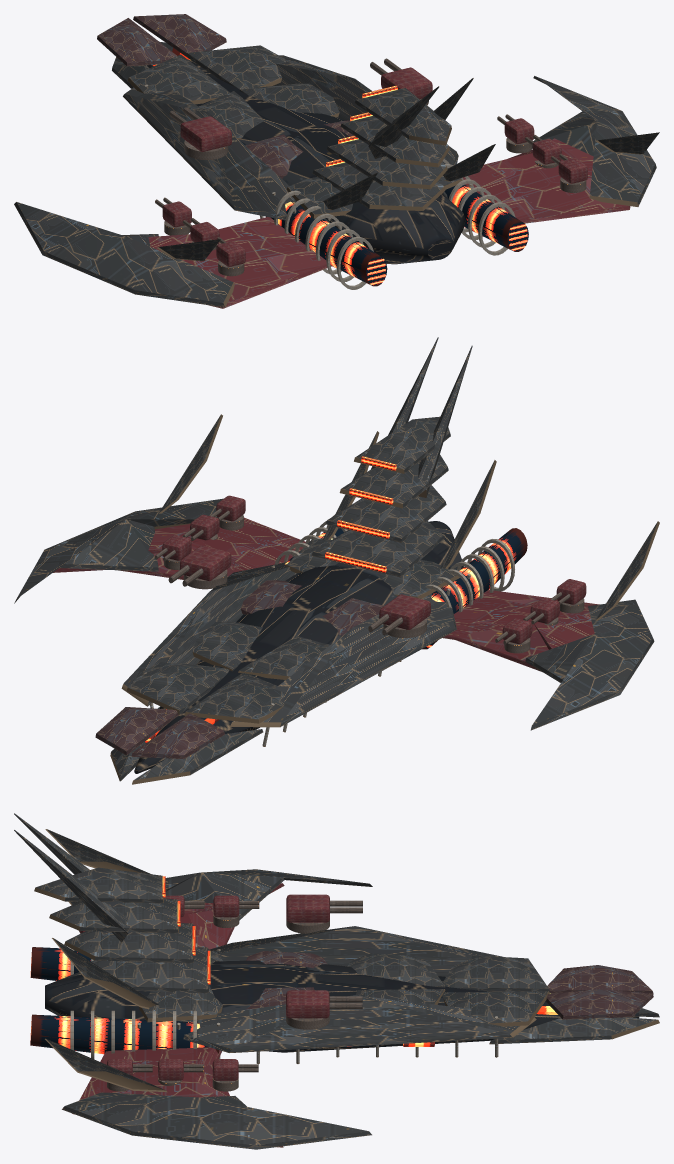
File: dynasty_battleship_recreated.glb
The picture shows the model from 3 angles, top to bottom: view 1: azimuth 30°, elevation 25°; view 2: azimuth 150°, elevation 25°; view 3: azimuth 270°, elevation 25°; orthographic projection. The views are drawn at different scales.
Parts seen in each view (by area): view 1: dynasty_battleship_recreated; view 2: dynasty_battleship_recreated; view 3: dynasty_battleship_recreated.
Boxes of the visible parts, x1,y1,x2,y2 form: dynasty_battleship_recreated: (14, 14, 659, 308); dynasty_battleship_recreated: (14, 337, 659, 784); dynasty_battleship_recreated: (14, 813, 659, 1149).
Bounding box in the file's own units: 3.8 × 1.39 × 3.74.
Materials: 1 (1 with a texture image).
